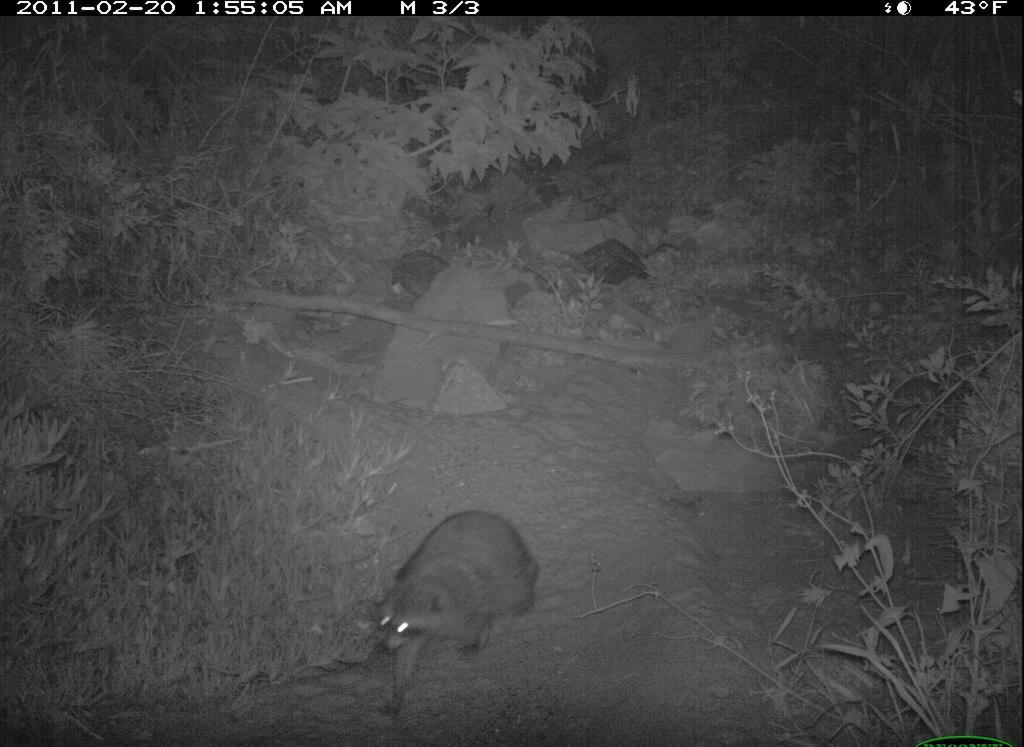raccoon: (363, 500, 543, 719)
